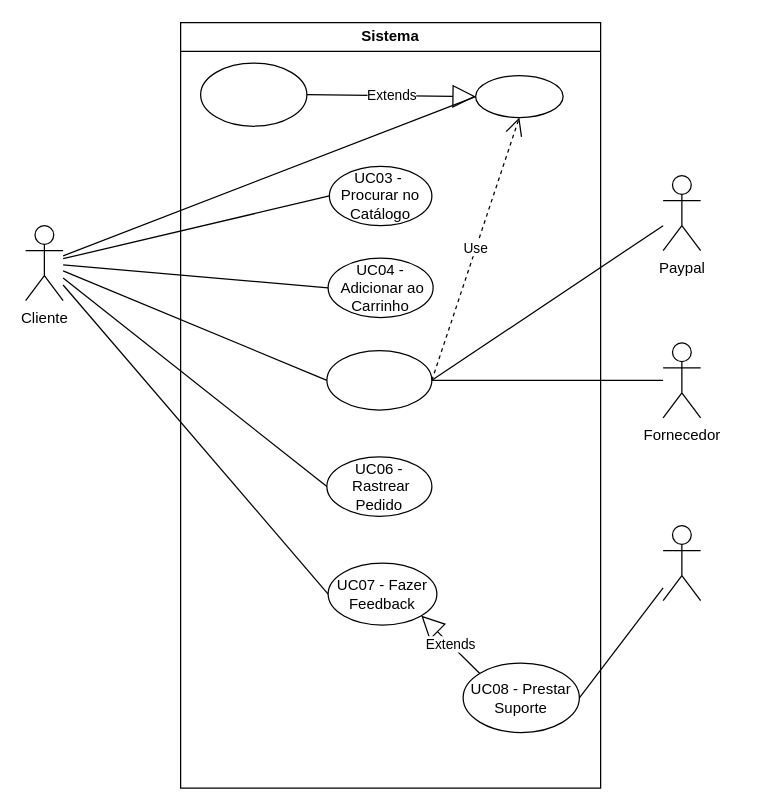
This 770x810 diagram has some shape labels left out. The shapes that lost their labels are listed below. From the top down, each one's centre as x and y in pixels, then its label:
At point 253,94: "UC01 - Realizar Cadastro".
At point 518,96: "UC02 - Login".
At point 379,379: "UC05 - Concluir Pedido".
At point 681,562: "Suporte Techstream".
